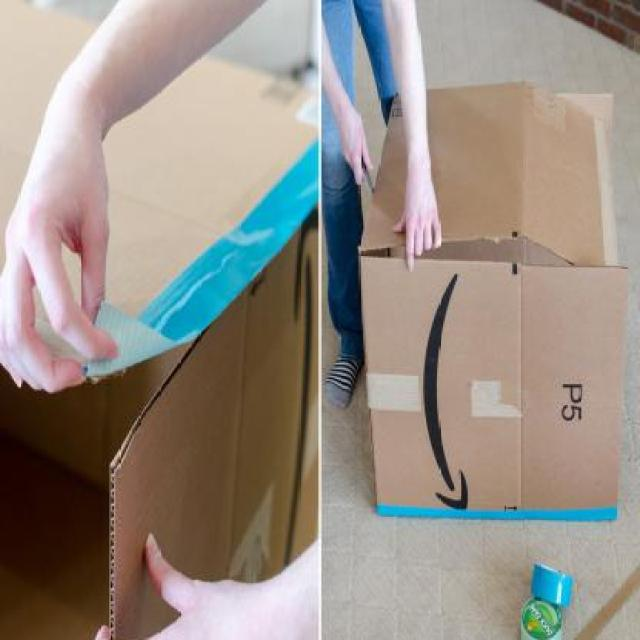box: (2, 0, 318, 640), (361, 81, 625, 520)
